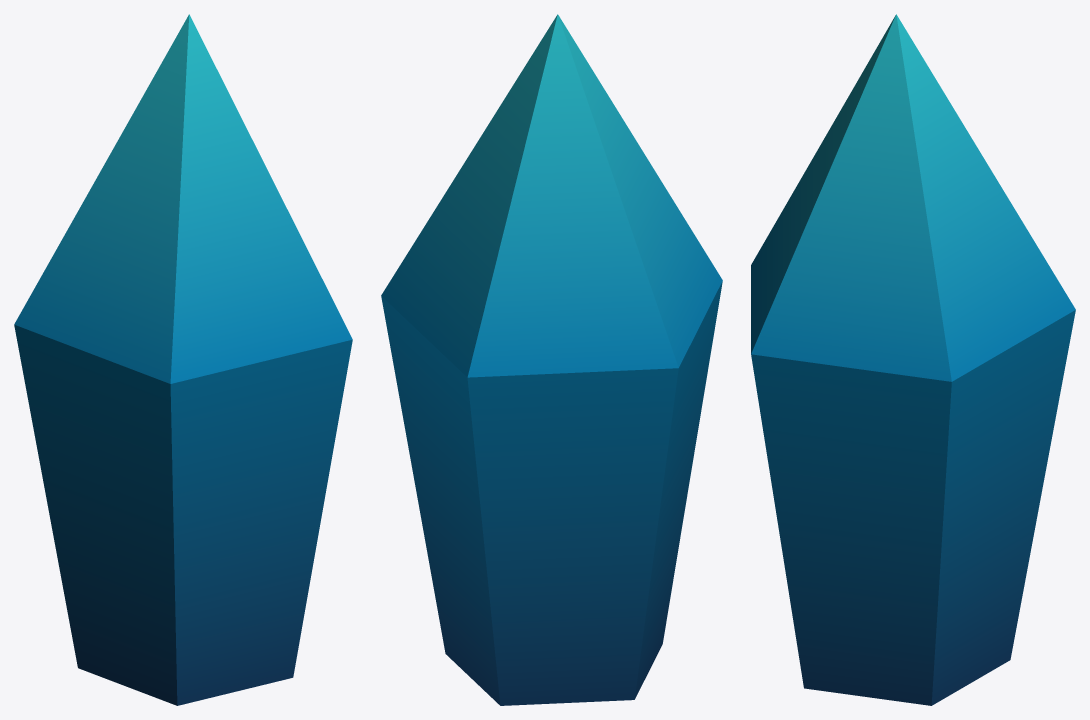
The model's file is Spike_2.fbx.
3 renders of one model, left to right at view 1: azimuth 30°, elevation 25°; view 2: azimuth 150°, elevation 25°; view 3: azimuth 270°, elevation 25°, orthographic.
Visible parts, largest first — view 1: Spike_2; view 2: Spike_2; view 3: Spike_2.
Boxes of the visible parts, x1,y1,x2,y2 form: Spike_2: (14,14,352,705); Spike_2: (381,14,722,705); Spike_2: (751,14,1075,705).
Bounding box in the file's own units: 71.27 × 149 × 67.78.
